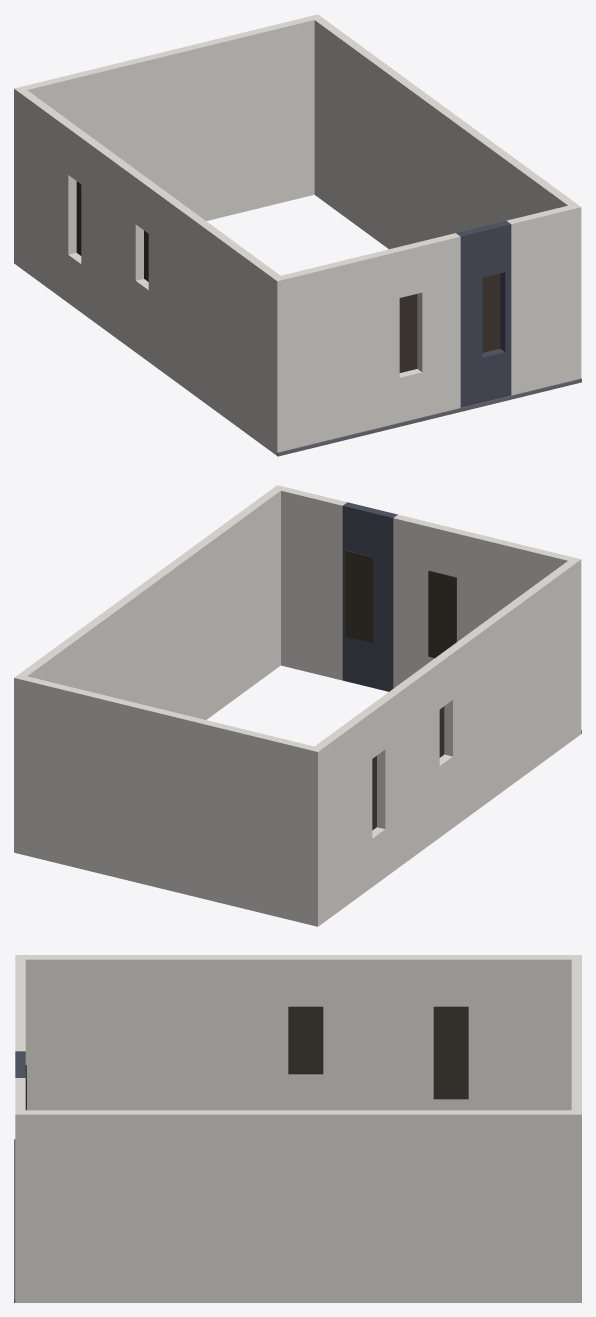
File: SM_Floor_NarrowUpperScatterLowEndL_White_546_01.gltf
3 views of the same model, one above another, from view 1: azimuth 30°, elevation 25°; view 2: azimuth 150°, elevation 25°; view 3: azimuth 270°, elevation 25° (orthographic). The views are drawn at different scales.
Visible parts, largest first — view 1: SM_Floor_NarrowUpperScatterLowEndL_White_546_01; view 2: SM_Floor_NarrowUpperScatterLowEndL_White_546_01; view 3: SM_Floor_NarrowUpperScatterLowEndL_White_546_01.
Boxes of the visible parts, <box> form: SM_Floor_NarrowUpperScatterLowEndL_White_546_01: <box>14,14,581,456</box>; SM_Floor_NarrowUpperScatterLowEndL_White_546_01: <box>14,485,581,926</box>; SM_Floor_NarrowUpperScatterLowEndL_White_546_01: <box>14,955,581,1302</box>.
Size of the model in its own units: 5.46 by 3 by 8.21.
1 material, 1 textured.
